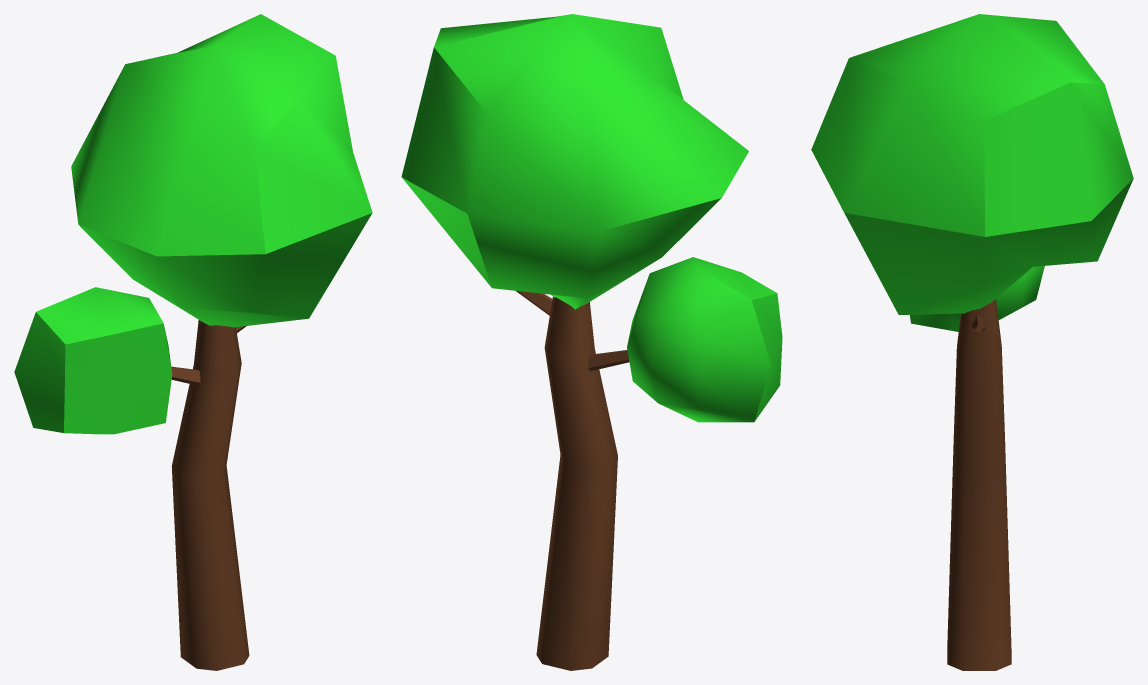
The model's file is Tree_2.fbx.
3 renders of one model, left to right at view 1: azimuth 30°, elevation 25°; view 2: azimuth 150°, elevation 25°; view 3: azimuth 270°, elevation 25°, orthographic. The views are drawn at different scales.
Visible parts, largest first — view 1: Tree_2; view 2: Tree_2; view 3: Tree_2.
Part boxes in pixels (x1,y1,x2,y2): Tree_2: (14, 14, 372, 670); Tree_2: (401, 14, 782, 670); Tree_2: (811, 14, 1133, 670).
Bounding box in the file's own units: 126 × 220 × 99.76.
